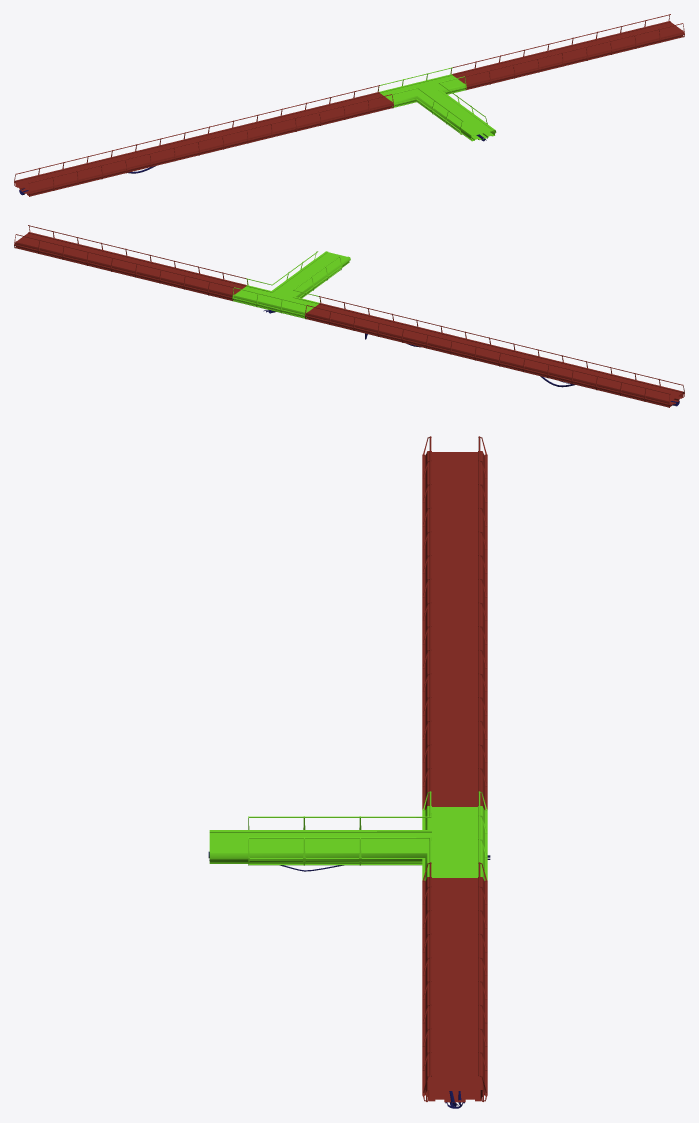
Rendered from SM_PlateformePAc.fbx.
3 views of the same model, one above another, from view 1: azimuth 30°, elevation 25°; view 2: azimuth 150°, elevation 25°; view 3: azimuth 270°, elevation 25° (orthographic). The views are drawn at different scales.
Visible parts, largest first — view 1: Box018, Box013, Box014, Box019, Box021, Box015, Box017, Box016, Box020; view 2: Box018, Box013, Box014, Box019, Box021, Box015, Box017, Box016, Box020; view 3: Box018, Box021, Box016, Box017, Box019, Box013, Box014, Box015, Box020.
Part boxes in pixels (x1,y1,x2,y2): Box018: (378, 67, 496, 141); Box013: (14, 156, 102, 196); Box014: (87, 138, 175, 178); Box019: (451, 49, 539, 89); Box021: (596, 14, 684, 54); Box015: (160, 120, 248, 160); Box017: (305, 85, 393, 125); Box016: (233, 103, 321, 143); Box020: (524, 32, 612, 72); Box018: (232, 251, 350, 318); Box013: (596, 367, 684, 407); Box014: (523, 349, 611, 389); Box019: (159, 260, 247, 300); Box021: (14, 225, 102, 265); Box015: (450, 331, 538, 371); Box017: (305, 296, 393, 336); Box016: (377, 314, 465, 354); Box020: (86, 243, 174, 283); Box018: (209, 791, 487, 880); Box021: (422, 1004, 487, 1102); Box016: (422, 649, 487, 738); Box017: (422, 720, 487, 809); Box019: (422, 862, 487, 951); Box013: (422, 436, 487, 525); Box014: (422, 507, 487, 596); Box015: (422, 578, 487, 667); Box020: (422, 933, 487, 1022).
Bounding box in the file's own units: 4111 × 148 × 764.
